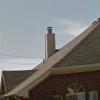Chimney: (36, 17, 65, 75)
